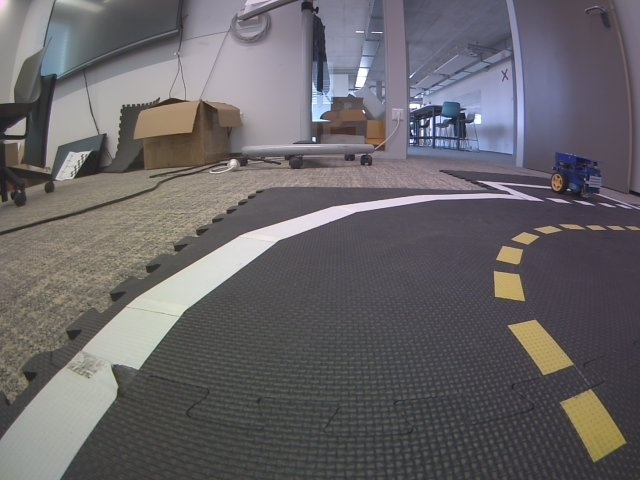Bot: (550, 151, 603, 198)
occupiedSlot: (478, 180, 640, 210)
